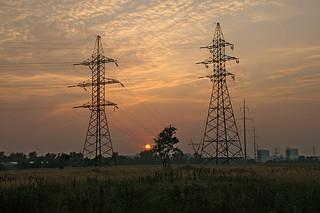power_tower: (192, 19, 246, 162), (71, 35, 118, 166)
